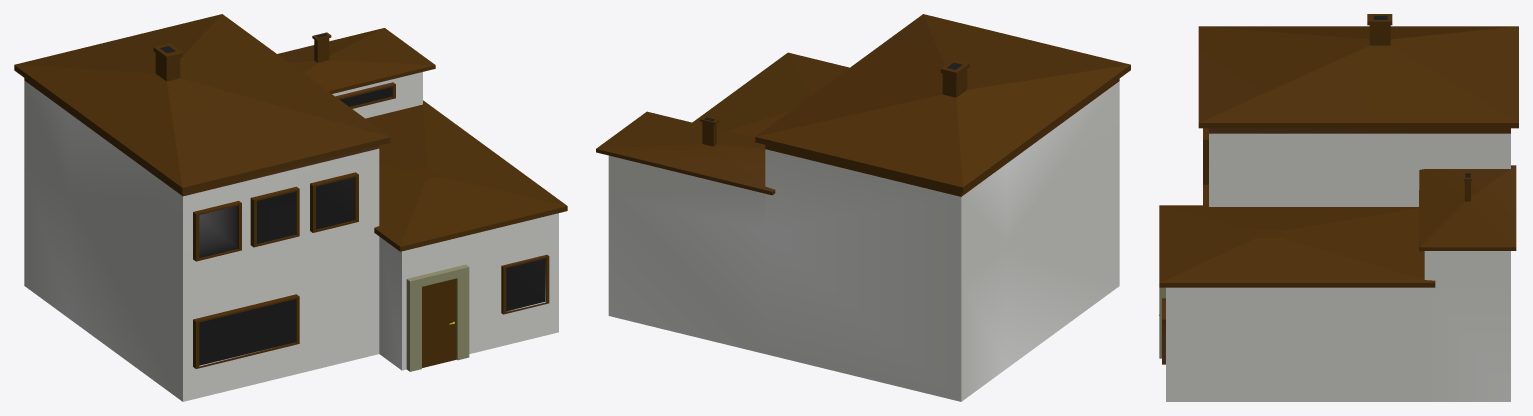
Rendered from mansao.fbx.
3 renders of one model, left to right at view 1: azimuth 30°, elevation 25°; view 2: azimuth 150°, elevation 25°; view 3: azimuth 270°, elevation 25°, orthographic. The views are drawn at different scales.
Parts seen in each view (by area): view 1: mansao; view 2: mansao; view 3: mansao.
Part boxes in pixels (left/top/right/bottom): mansao: left=14, top=14, right=567, bottom=401; mansao: left=596, top=14, right=1130, bottom=401; mansao: left=1159, top=14, right=1518, bottom=401.
Size of the model in its own units: 746 by 518 by 662.
